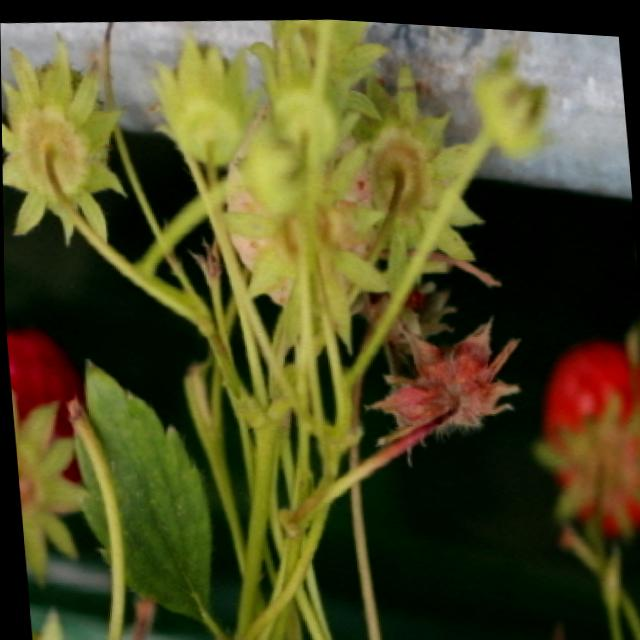Gray Mold: (361, 308, 519, 453)
